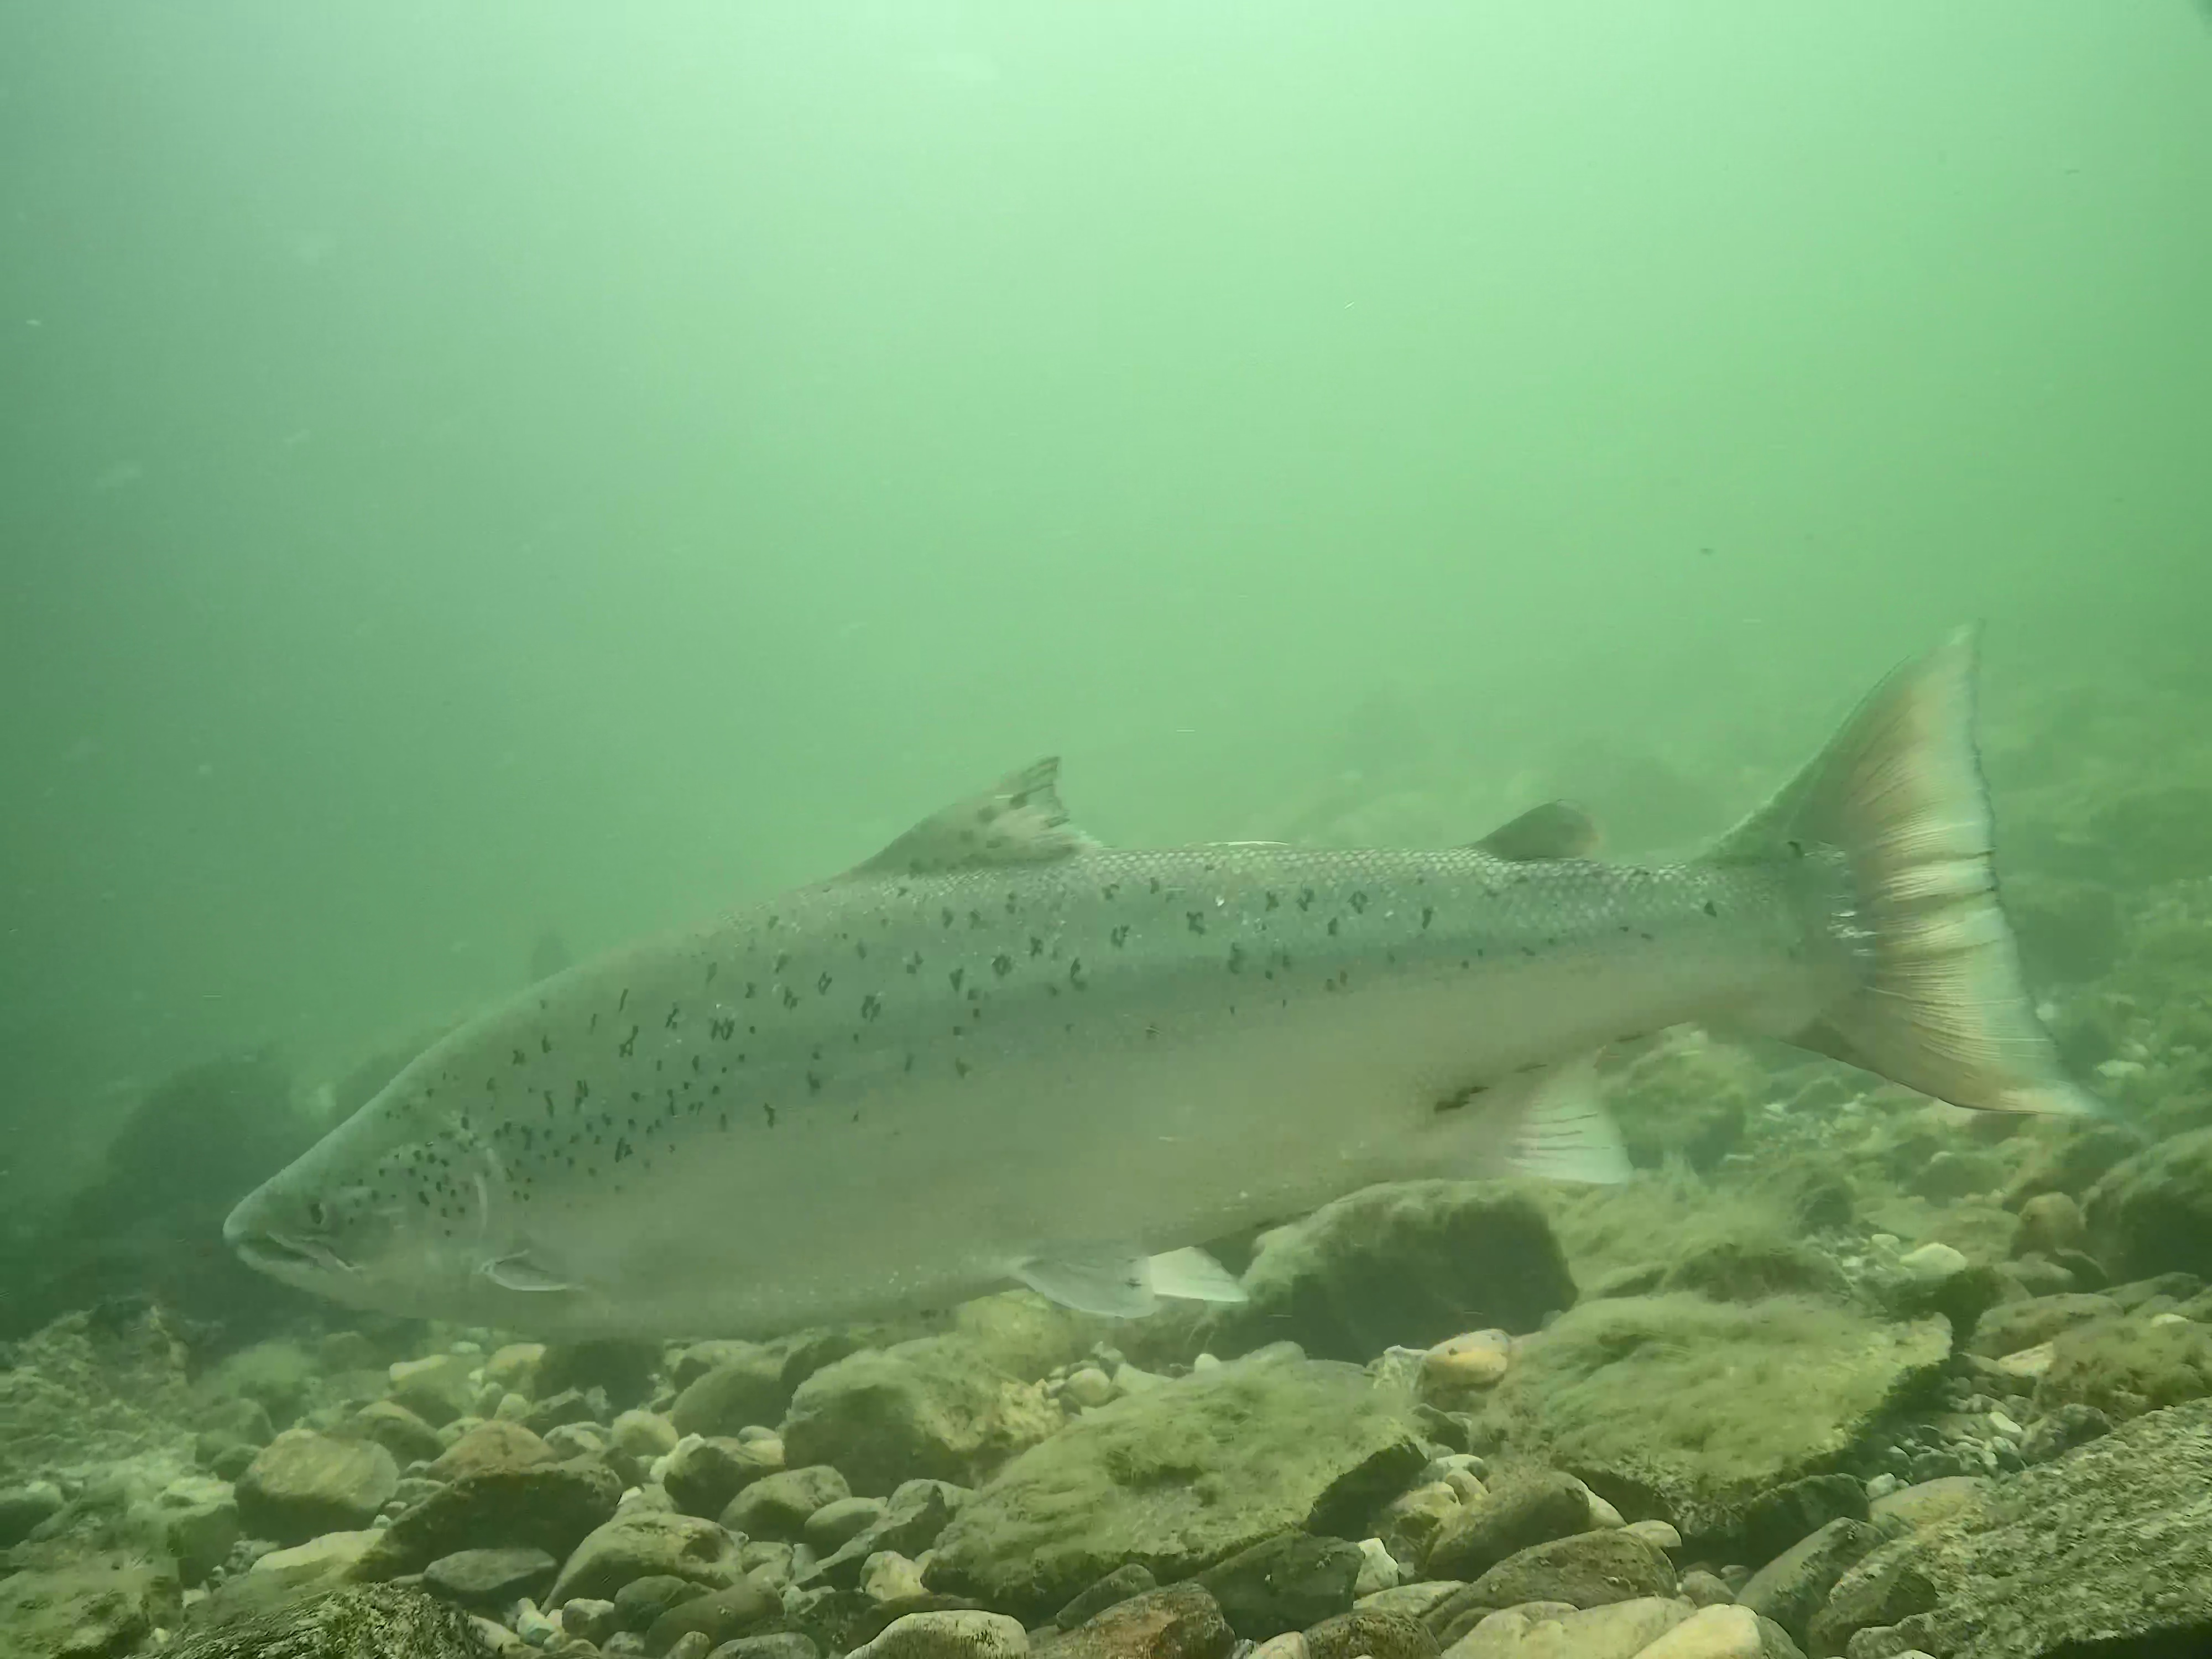salmon: (216, 615, 2106, 1352)
